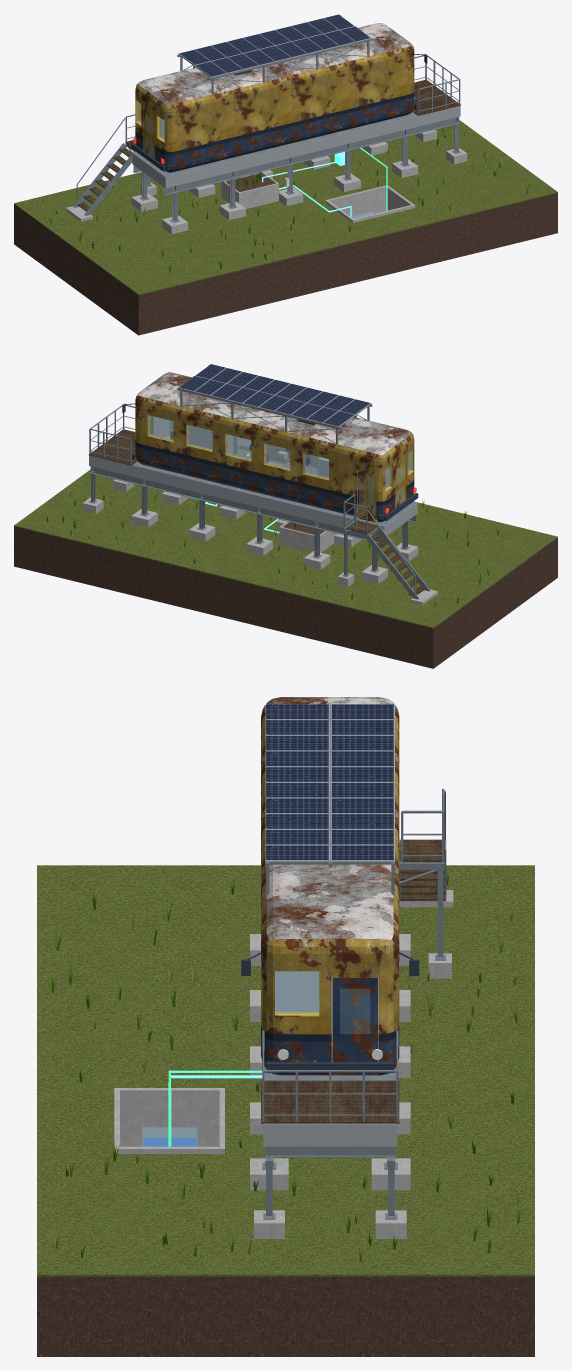
The model's file is tinyhouse.glb.
The picture shows the model from 3 angles, top to bottom: view 1: azimuth 30°, elevation 25°; view 2: azimuth 150°, elevation 25°; view 3: azimuth 270°, elevation 25°; orthographic projection. The views are drawn at different scales.
Visible parts, largest first — view 1: grass, soil, cutaway_hull, hull, cutaway_chassis_front, main_beam_0, pit_wall_y+1, cells_top_rim, bio_wall_y-1, rear_door, stringer_-0.4, bio_topsoil (+2 smaller); view 2: grass, soil, hull, cells_long_+1.2, main_beam_1, cells_top_rim, insulation, bio_wall_y+1, lining, window_2, window_3, window_1 (+9 smaller); view 3: grass, soil, hull, pit_wall_x-1, terrace_door, cells_cross_10, wall_bath_e, terrace_window, cutaway_hull, cross_beam_5, terrace_door_glass, bumper_+1 (+27 smaller).
Part boxes in pixels (x1=…): grass: x1=14, y1=120, x2=557, y2=295; soil: x1=14, y1=193, x2=557, y2=335; cutaway_hull: x1=175, y1=46, x2=389, y2=168; hull: x1=135, y1=23, x2=414, y2=172; cutaway_chassis_front: x1=165, y1=105, x2=460, y2=188; main_beam_0: x1=163, y1=117, x2=459, y2=195; pit_wall_y+1: x1=325, y1=185, x2=388, y2=218; cells_top_rim: x1=133, y1=112, x2=417, y2=176; bio_wall_y-1: x1=238, y1=183, x2=278, y2=208; rear_door: x1=143, y1=109, x2=154, y2=158; stringer_-0.4: x1=84, y1=151, x2=134, y2=215; bio_topsoil: x1=226, y1=173, x2=274, y2=191; grass: x1=14, y1=469, x2=557, y2=628; soil: x1=14, y1=526, x2=557, y2=668; hull: x1=135, y1=372, x2=414, y2=522; cells_long_+1.2: x1=89, y1=455, x2=383, y2=537; main_beam_1: x1=90, y1=466, x2=383, y2=543; cells_top_rim: x1=132, y1=461, x2=416, y2=526; insulation: x1=148, y1=416, x2=413, y2=520; bio_wall_y+1: x1=279, y1=527, x2=314, y2=552; lining: x1=150, y1=416, x2=408, y2=488; window_2: x1=264, y1=443, x2=290, y2=469; window_3: x1=225, y1=434, x2=251, y2=460; window_1: x1=303, y1=453, x2=328, y2=479; grass: x1=37, y1=865, x2=534, y2=1276; soil: x1=37, y1=1276, x2=534, y2=1356; hull: x1=261, y1=697, x2=399, y2=1075; pit_wall_x-1: x1=120, y1=1088, x2=219, y2=1146; terrace_door: x1=332, y1=978, x2=377, y2=1074; cells_cross_10: x1=264, y1=1123, x2=396, y2=1146; wall_bath_e: x1=275, y1=971, x2=378, y2=1032; terrace_window: x1=275, y1=971, x2=319, y2=1013; cutaway_hull: x1=261, y1=712, x2=283, y2=925; cross_beam_5: x1=265, y1=1146, x2=395, y2=1157; terrace_door_glass: x1=340, y1=989, x2=369, y2=1033; bumper_+1: x1=266, y1=1061, x2=393, y2=1072.
Size of the model in its own units: 17.5 by 7.38 by 9.
45 materials, 15 textured.
